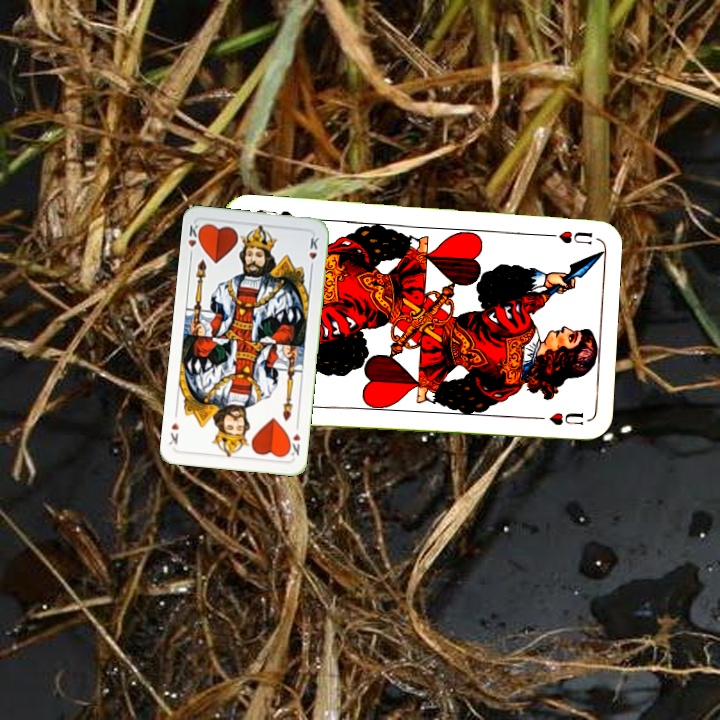HK: (184, 221, 205, 260), (283, 420, 303, 458)
HU: (537, 226, 595, 247)
